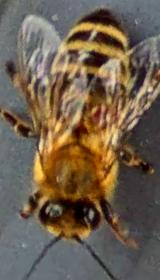varroa_mite: (84, 93, 120, 129)
